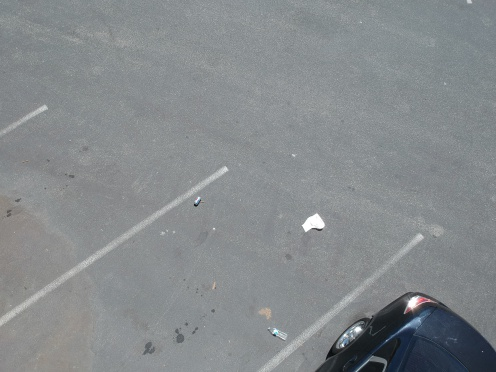bottle: (263, 323, 291, 341)
can: (191, 194, 202, 207)
plastic bag: (296, 210, 327, 232)
